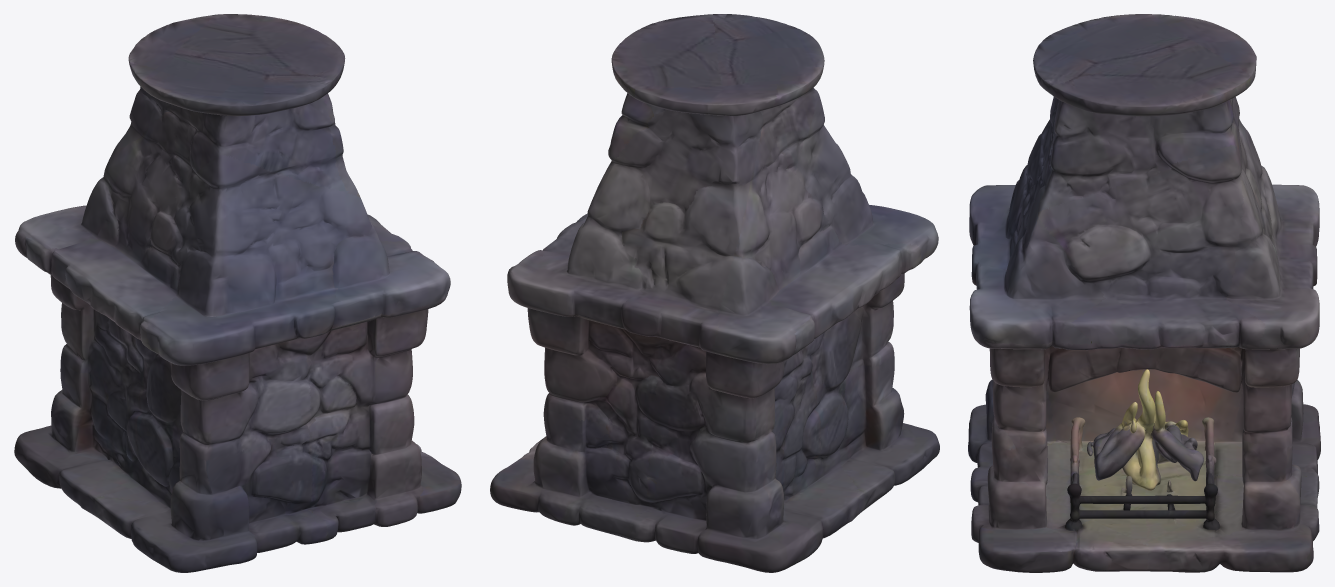
The picture shows the model from 3 angles, left to right: view 1: azimuth 30°, elevation 25°; view 2: azimuth 150°, elevation 25°; view 3: azimuth 270°, elevation 25°; orthographic projection. The views are drawn at different scales.
Parts seen in each view (by area): view 1: tripo_node_bf211251-cd24-490e-b29b-3a438fb4fb7a; view 2: tripo_node_bf211251-cd24-490e-b29b-3a438fb4fb7a; view 3: tripo_node_bf211251-cd24-490e-b29b-3a438fb4fb7a.
Part boxes in pixels (box(x1,y1,x2,y2)): tripo_node_bf211251-cd24-490e-b29b-3a438fb4fb7a: box(14, 14, 461, 572); tripo_node_bf211251-cd24-490e-b29b-3a438fb4fb7a: box(490, 14, 939, 572); tripo_node_bf211251-cd24-490e-b29b-3a438fb4fb7a: box(968, 14, 1320, 572).
Size of the model in its own units: 0.7453 by 0.9998 by 0.7293.
Materials: 1 (1 with a texture image).
